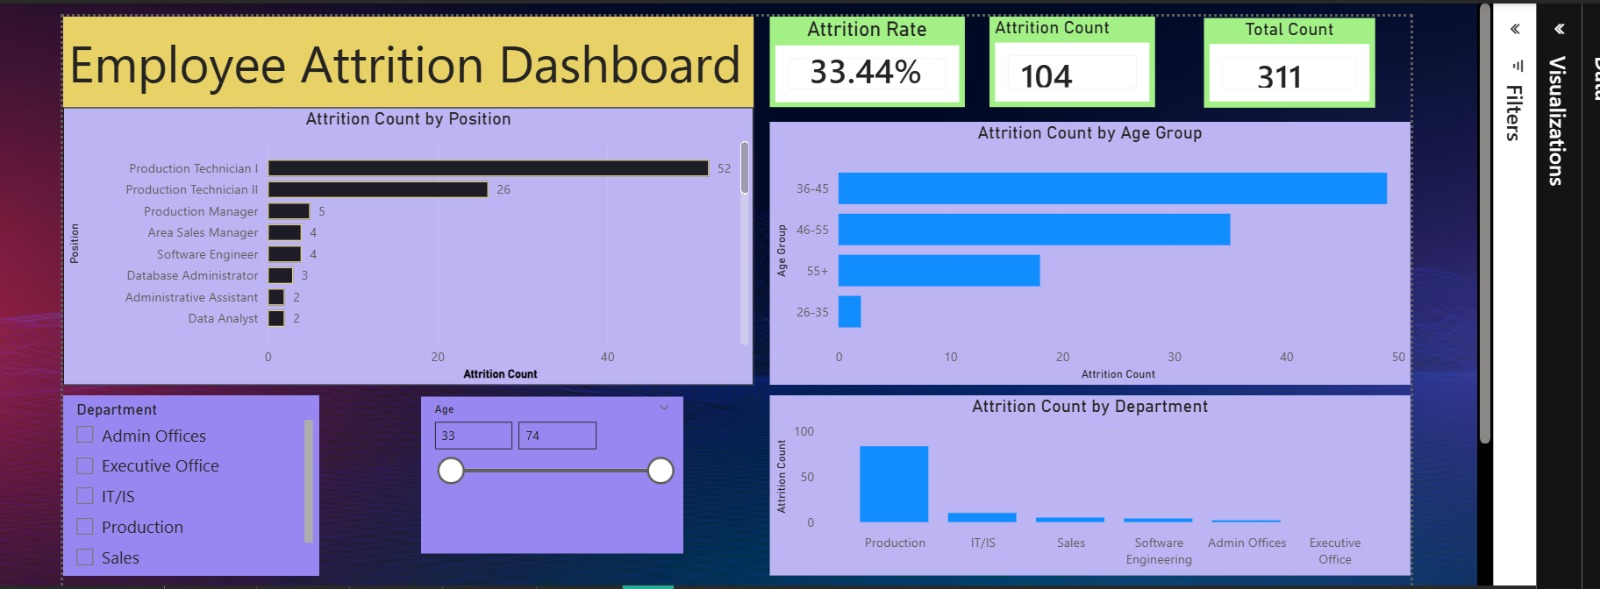

What the dashboard file says about the page in this screenshot:
{"tool":"powerbi","page":{"name":"Obj-1","canvas":[1280,720],"ordinal":0},"visuals":[{"type":"clusteredColumnChart","fields":{"Category":["HRDataset_v14.Department"],"Y":["HRDataset_v14.Attrition Count"]},"box":[671.2,360,608.8,171.2],"z":0},{"type":"clusteredBarChart","fields":{"Category":["HRDataset_v14.Position"],"Y":["HRDataset_v14.Attrition Count"]},"box":[0,86.2,656.2,263.8],"z":1000},{"type":"clusteredBarChart","fields":{"Category":["HRDataset_v14.Age Group"],"Y":["HRDataset_v14.Attrition Count"]},"box":[671.2,100,608.8,250],"z":2000},{"type":"textbox","box":[0,0,656.2,86.2],"z":3000},{"type":"slicer","fields":{"Values":["HRDataset_v14.Department"]},"box":[0,360,242.5,171.2],"z":4000},{"type":"slicer","title":"AGE","fields":{"Values":["HRDataset_v14.Age"]},"box":[340,361.2,248.8,148.8],"z":5000},{"type":"cardVisual","title":"Attrition Rate","fields":{"Data":["HRDataset_v14.Attrition Rate"]},"box":[671.2,0,185,86.2],"z":6000},{"type":"cardVisual","title":"Attrition Count","fields":{"Data":["HRDataset_v14.Attrition Count"]},"box":[880,0,157.5,86.2],"z":7000},{"type":"cardVisual","title":"Total Count","fields":{"Data":["CountNonNull(HRDataset_v14.EmpID)"]},"box":[1083.8,1.2,162.5,85],"z":8000}]}

Visuals, with their boxes on the page's 1280x720 design canvas (x1, y1, x2, y2). These are canvas units, not pixel positions in the 1600x589 screenshot, which may show the page scaled, cropped or inside an application window:
clusteredColumnChart - HRDataset_v14.Department x HRDataset_v14.Attrition Count: {"x1": 671, "y1": 360, "x2": 1280, "y2": 531}
clusteredBarChart - HRDataset_v14.Position x HRDataset_v14.Attrition Count: {"x1": 0, "y1": 86, "x2": 656, "y2": 350}
clusteredBarChart - HRDataset_v14.Age Group x HRDataset_v14.Attrition Count: {"x1": 671, "y1": 100, "x2": 1280, "y2": 350}
textbox: {"x1": 0, "y1": 0, "x2": 656, "y2": 86}
slicer - HRDataset_v14.Department: {"x1": 0, "y1": 360, "x2": 242, "y2": 531}
"AGE" slicer: {"x1": 340, "y1": 361, "x2": 589, "y2": 510}
"Attrition Rate" cardVisual: {"x1": 671, "y1": 0, "x2": 856, "y2": 86}
"Attrition Count" cardVisual: {"x1": 880, "y1": 0, "x2": 1038, "y2": 86}
"Total Count" cardVisual: {"x1": 1084, "y1": 1, "x2": 1246, "y2": 86}
